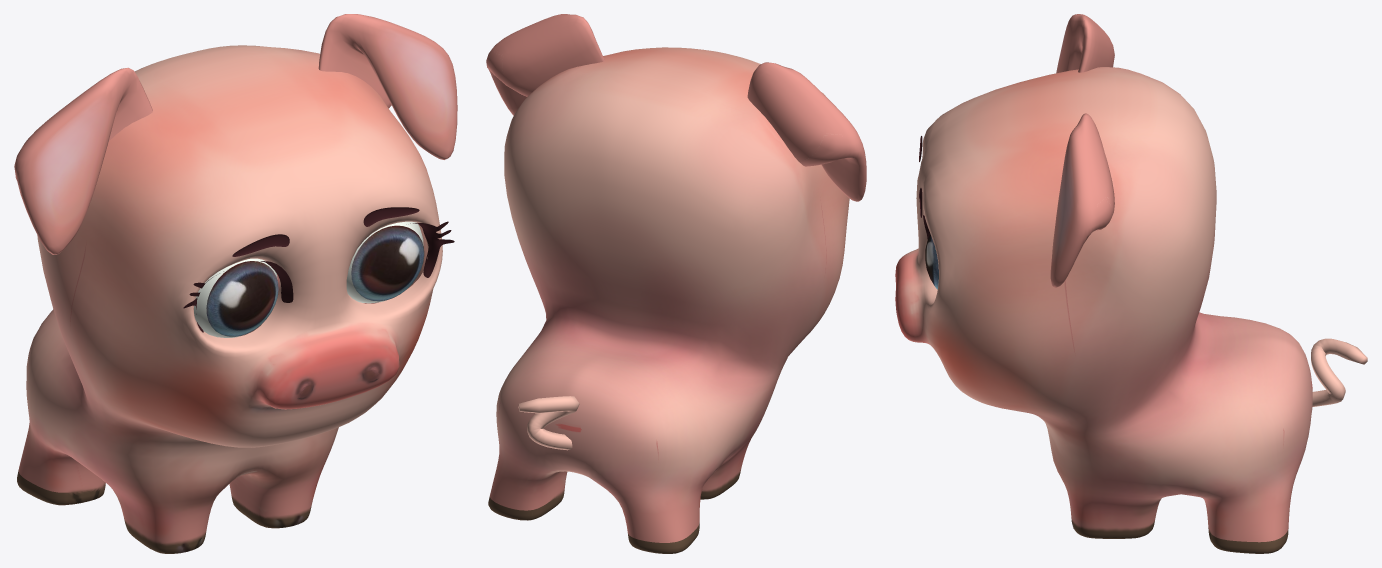
File: porquinho.glb
3 views of the same model, side by side, from view 1: azimuth 30°, elevation 25°; view 2: azimuth 150°, elevation 25°; view 3: azimuth 270°, elevation 25° (orthographic). The views are drawn at different scales.
Visible parts, largest first — view 1: porquinho, orelha, olho, sombrancelhas, Plane.001; view 2: porquinho, orelha, NurbsPath; view 3: porquinho, orelha, NurbsPath.
Part boxes in pixels (x1,y1,x2,y2): porquinho: (17,45,442,553); orelha: (14,14,457,254); olho: (194,221,424,337); sombrancelhas: (183,221,454,332); Plane.001: (232,207,419,256); porquinho: (488,47,849,553); orelha: (486,14,866,201); NurbsPath: (518,396,579,450); porquinho: (895,67,1312,553); orelha: (1050,14,1114,288); NurbsPath: (1311,338,1367,406).
Size of the model in its own units: 2.92 by 3.18 by 3.08.
3 materials, 2 textured.
